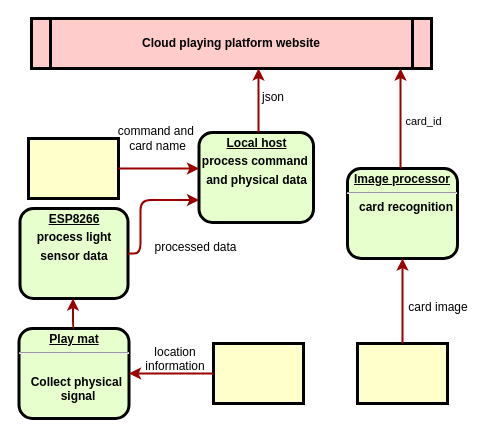
Image size: 485x437. Some labels were removed from this diagram. The centre of each missing label's shape, as x and y in pixels:
"Camera" belongs at (x=402, y=373).
"Light sensors" belongs at (x=258, y=373).
"Microphone" belongs at (x=73, y=168).
